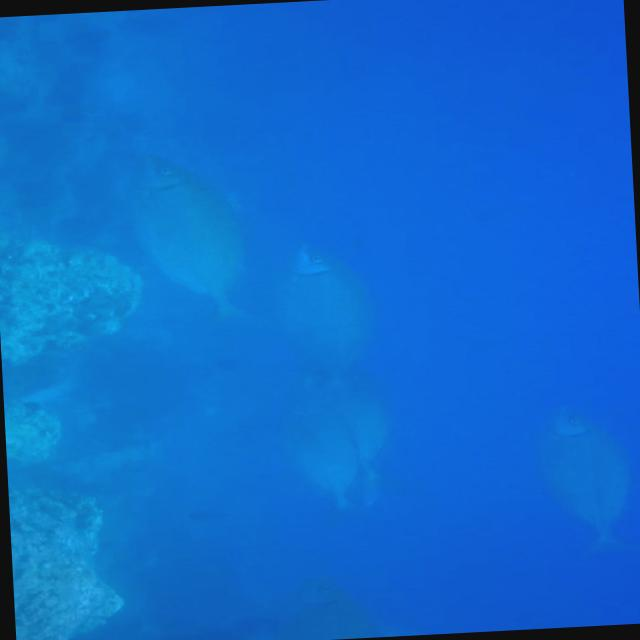Sokar Baligi: (105, 137, 279, 341), (524, 397, 640, 574)
